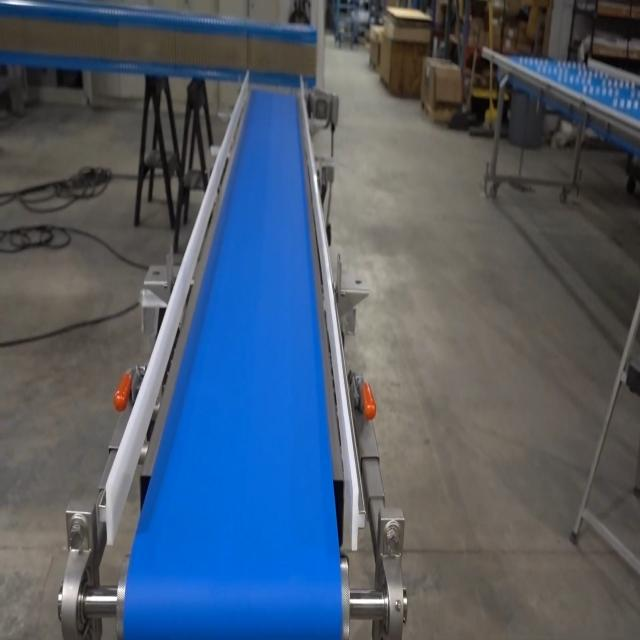Convoyeur: (62, 86, 404, 638)
